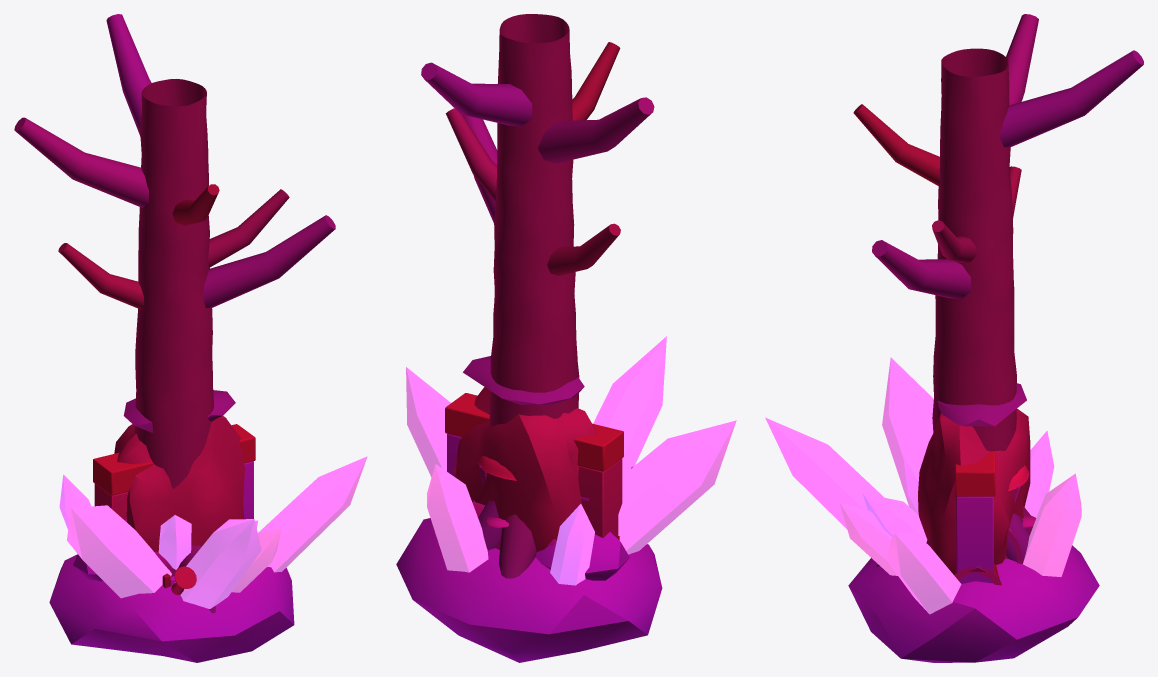
Rendered from props.glb.
The picture shows the model from 3 angles, left to right: view 1: azimuth 30°, elevation 25°; view 2: azimuth 150°, elevation 25°; view 3: azimuth 270°, elevation 25°; orthographic projection. The views are drawn at different scales.
Parts seen in each view (by area): view 1: tree_trunk_a, crystal_spire, falls_rock, tree_trunk_b, great_door, watering_can; view 2: crystal_spire, tree_trunk_a, falls_rock, great_door, tree_trunk_b; view 3: crystal_spire, tree_trunk_a, falls_rock, great_door, tree_trunk_b.
Part boxes in pixels (left/top/right/bottom): tree_trunk_a: left=14, top=14, right=335, bottom=613; crystal_spire: left=49, top=456, right=367, bottom=662; falls_rock: left=73, top=390, right=244, bottom=581; tree_trunk_b: left=58, top=184, right=289, bottom=309; great_door: left=93, top=424, right=255, bottom=519; watering_can: left=155, top=552, right=196, bottom=594; crystal_spire: left=396, top=336, right=736, bottom=662; tree_trunk_a: left=421, top=14, right=654, bottom=578; falls_rock: left=453, top=356, right=629, bottom=580; great_door: left=445, top=393, right=623, bottom=537; tree_trunk_b: left=445, top=42, right=620, bottom=275; crystal_spire: left=765, top=357, right=1099, bottom=662; tree_trunk_a: left=872, top=14, right=1143, bottom=566; falls_rock: left=918, top=383, right=1030, bottom=571; great_door: left=955, top=451, right=995, bottom=583; tree_trunk_b: left=853, top=104, right=1021, bottom=262.
Size of the model in its own units: 28.87 by 52.77 by 30.24.
